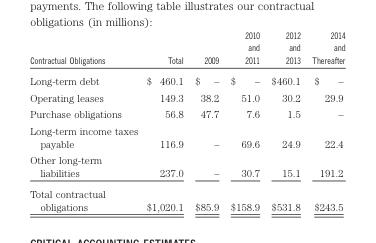table: (29, 29, 344, 211)
table column: (29, 29, 141, 211), (141, 29, 188, 211), (264, 29, 305, 211), (224, 29, 264, 211), (305, 29, 344, 211), (188, 29, 224, 211)
table column header: (29, 29, 344, 69)
table row: (29, 29, 344, 69), (29, 151, 344, 182), (29, 121, 344, 151), (29, 182, 344, 211), (29, 69, 344, 88), (29, 88, 344, 105), (29, 105, 344, 121)
